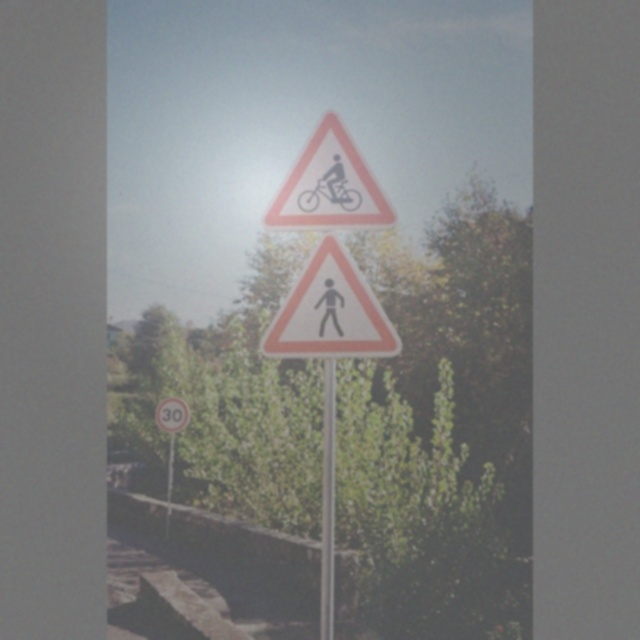Cycle_Crossing: (269, 113, 403, 232)
